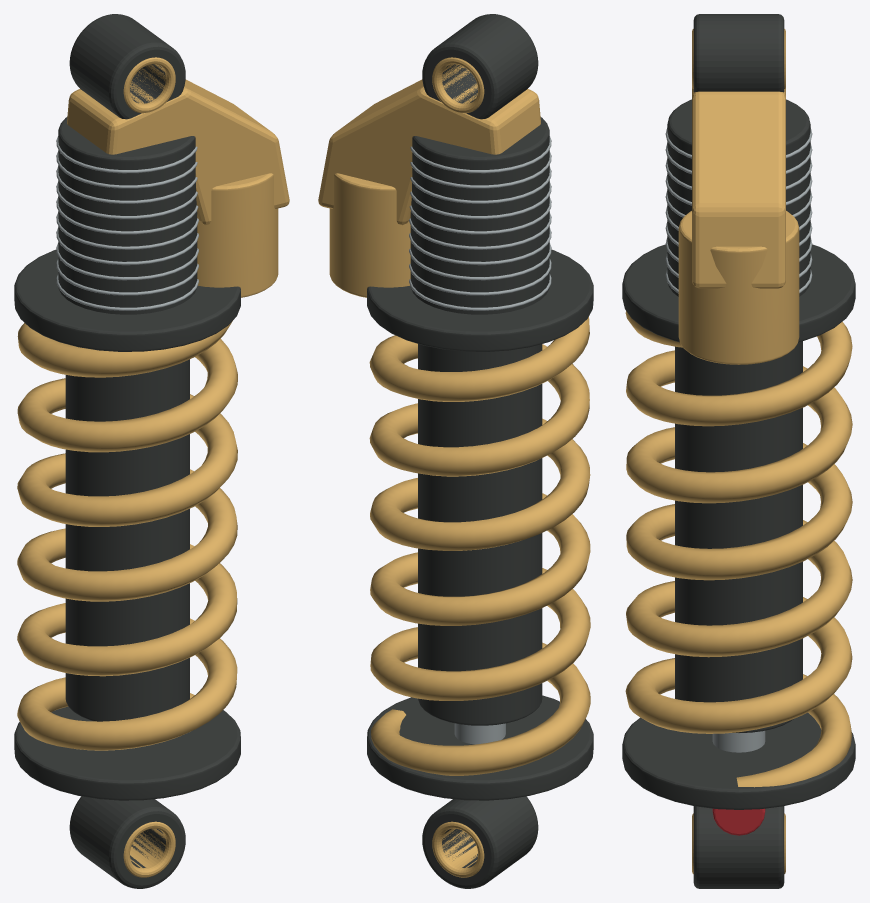
The model's file is ohlins-ttx22m2-coil--a7c29355.glb.
3 views of the same model, side by side, from view 1: azimuth 30°, elevation 25°; view 2: azimuth 150°, elevation 25°; view 3: azimuth 270°, elevation 25° (orthographic). The views are drawn at different scales.
Visible parts, largest first — view 1: ohlins-ttx22m2-coil--a7c29355__link, ohlins-ttx22m2-coil--a7c29355__stanchions, ohlins-ttx22m2-coil--a7c29355__bolts; view 2: ohlins-ttx22m2-coil--a7c29355__link, ohlins-ttx22m2-coil--a7c29355__stanchions, ohlins-ttx22m2-coil--a7c29355__bolts; view 3: ohlins-ttx22m2-coil--a7c29355__stanchions, ohlins-ttx22m2-coil--a7c29355__link, ohlins-ttx22m2-coil--a7c29355__bolts, ohlins-ttx22m2-coil--a7c29355__rebound.
Boxes of the visible parts, x1,y1,x2,y2 form: ohlins-ttx22m2-coil--a7c29355__link: [14, 14, 240, 888]; ohlins-ttx22m2-coil--a7c29355__stanchions: [17, 57, 289, 877]; ohlins-ttx22m2-coil--a7c29355__bolts: [56, 136, 198, 310]; ohlins-ttx22m2-coil--a7c29355__link: [367, 14, 593, 888]; ohlins-ttx22m2-coil--a7c29355__stanchions: [318, 57, 590, 877]; ohlins-ttx22m2-coil--a7c29355__bolts: [409, 136, 551, 744]; ohlins-ttx22m2-coil--a7c29355__stanchions: [625, 29, 852, 873]; ohlins-ttx22m2-coil--a7c29355__link: [622, 14, 855, 888]; ohlins-ttx22m2-coil--a7c29355__bolts: [665, 128, 812, 752]; ohlins-ttx22m2-coil--a7c29355__rebound: [712, 808, 765, 835].
Size of the model in its own units: 0.076 by 0.254 by 0.062.
